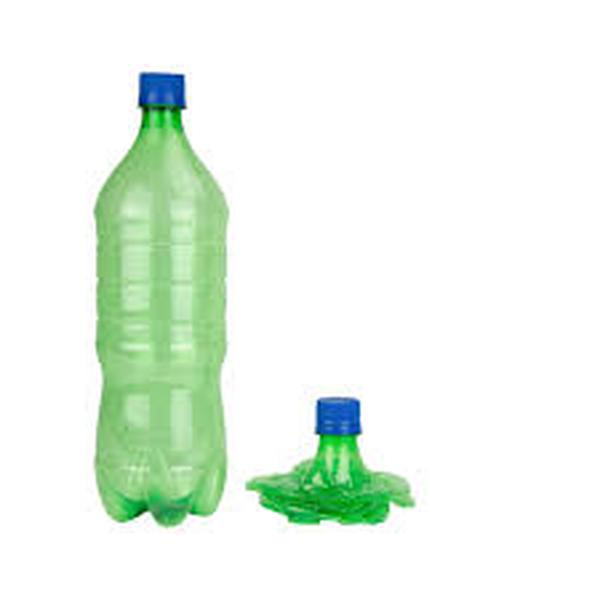tutuma: (77, 57, 235, 534)
